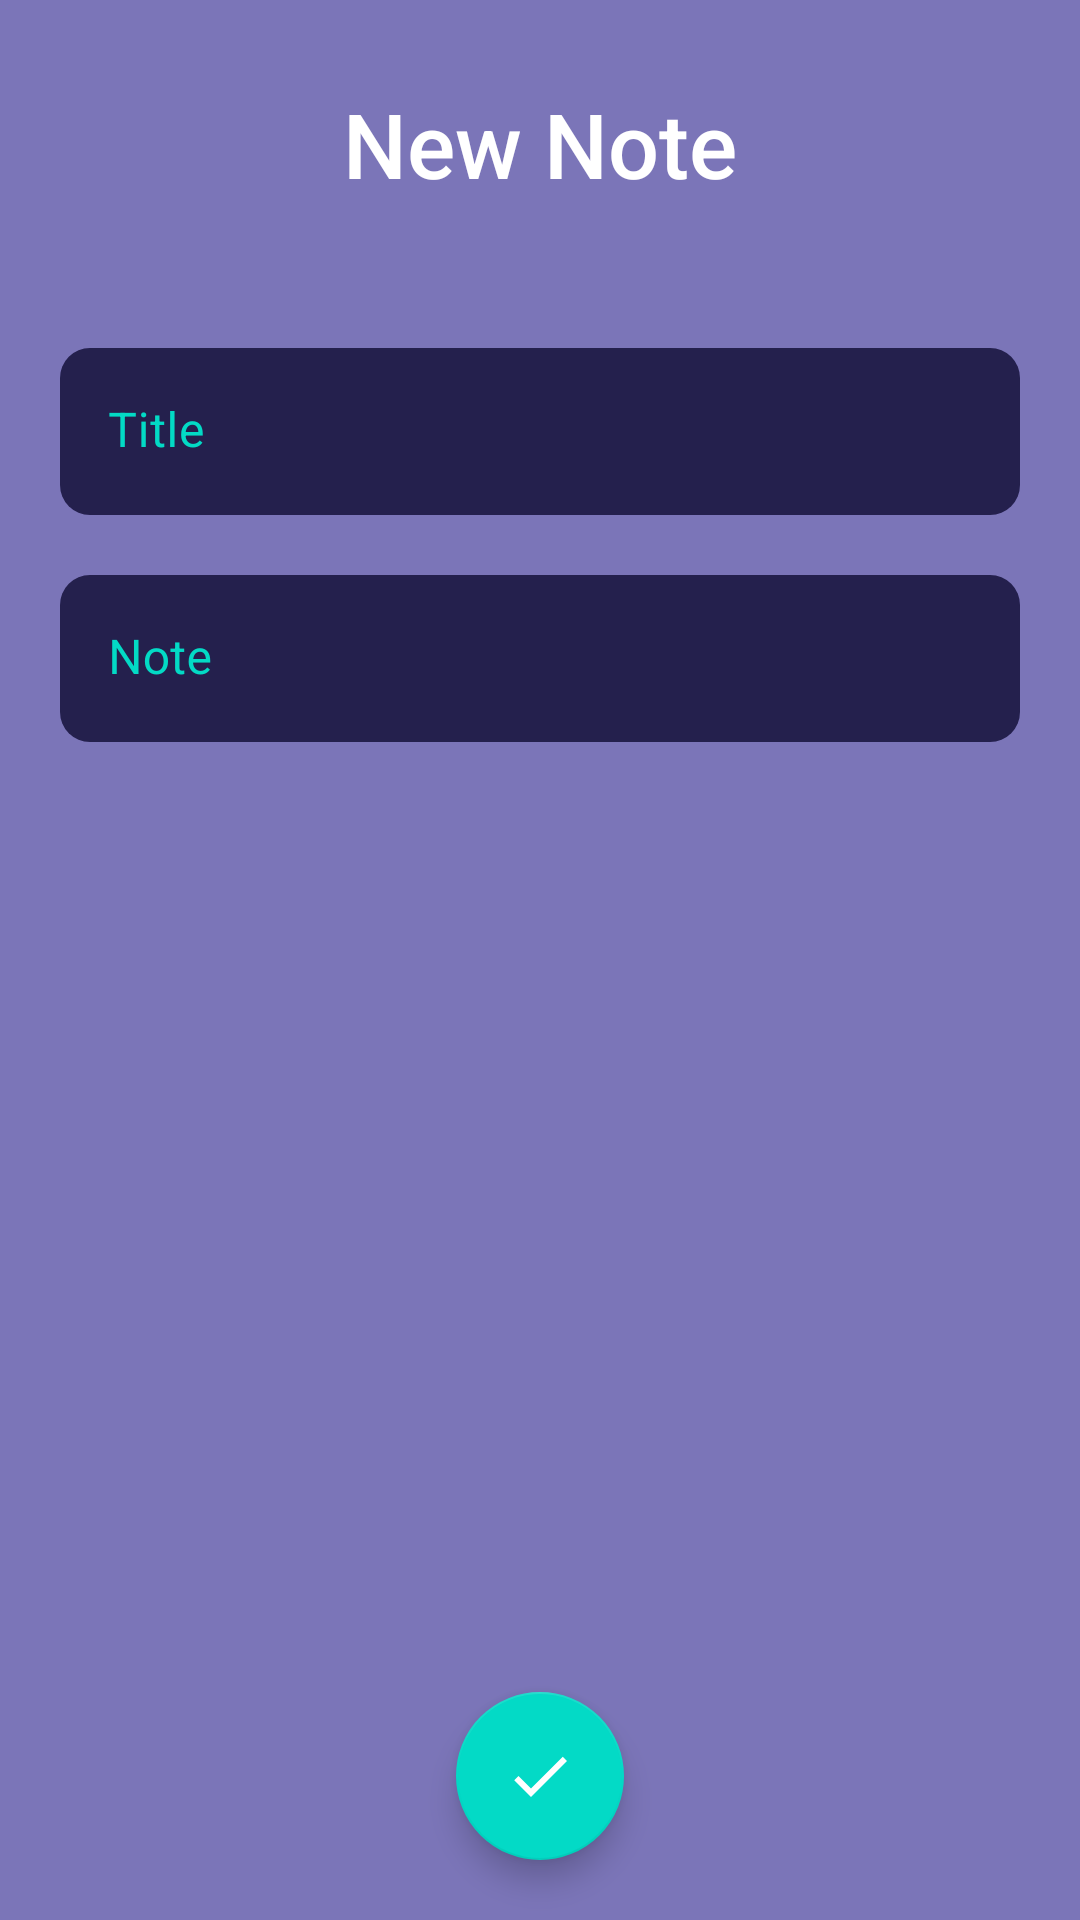

Named icons in this screenshot (1080 × 1920) and their centers, (x,y):
check: (540,1776)
